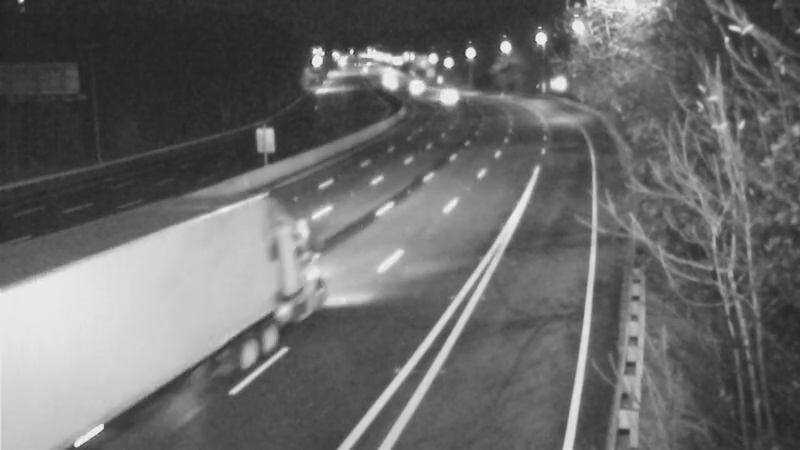vehicle: (199, 232, 279, 312), (366, 58, 416, 108), (383, 59, 433, 109), (420, 69, 470, 119)
